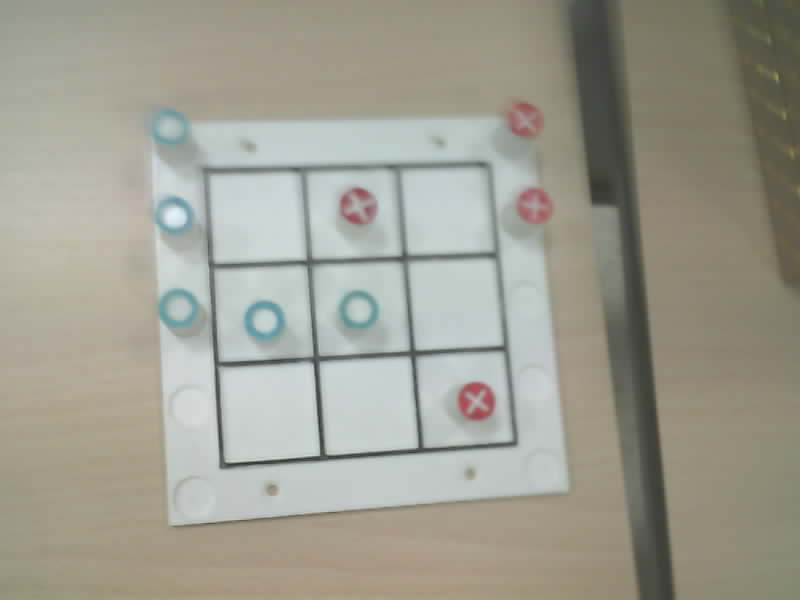blue circle: (244, 300, 285, 340), (158, 289, 198, 328), (339, 290, 378, 328), (154, 196, 193, 234), (150, 108, 189, 144)
board: (151, 103, 566, 524)
cells: (220, 363, 318, 462), (320, 357, 417, 454), (213, 266, 312, 361), (417, 352, 512, 447), (208, 173, 305, 262), (409, 258, 502, 349), (308, 169, 401, 258), (402, 166, 493, 254), (342, 293, 377, 328)
grid: (203, 162, 517, 467)
red cross: (457, 382, 494, 419), (340, 187, 376, 224), (516, 187, 552, 223), (506, 102, 543, 137)
